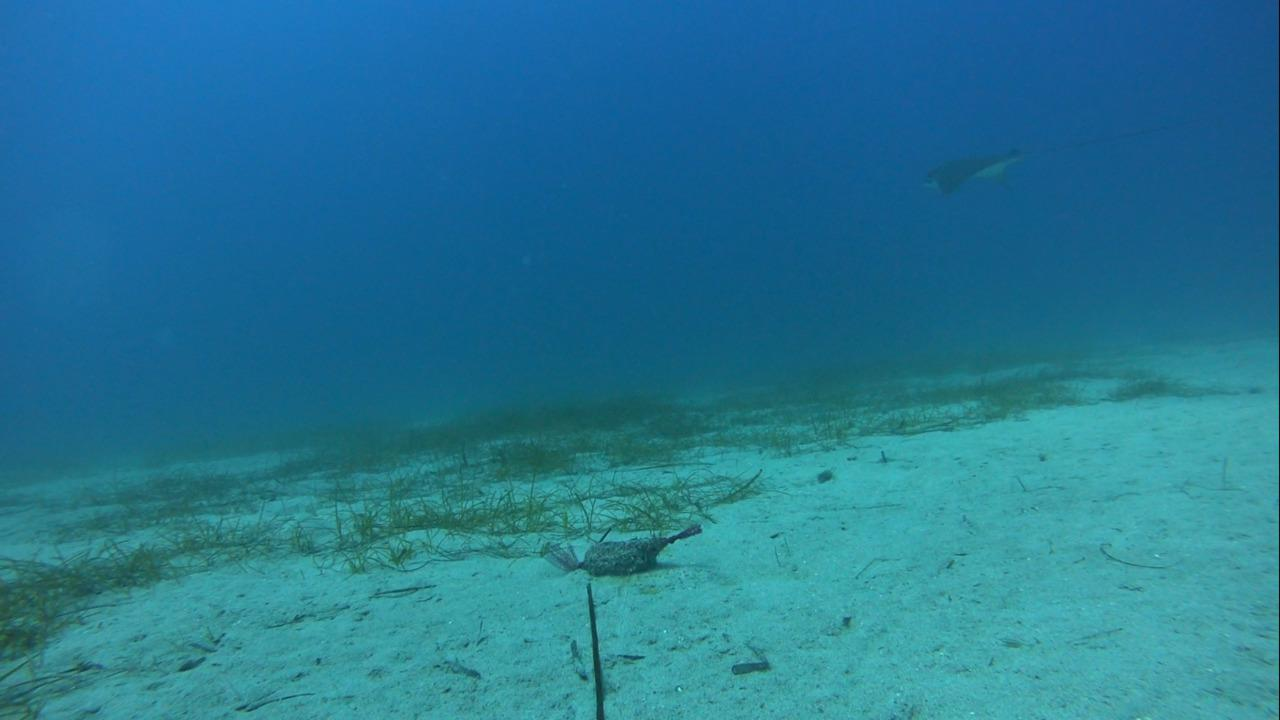myliobatis: (901, 114, 1208, 202)
